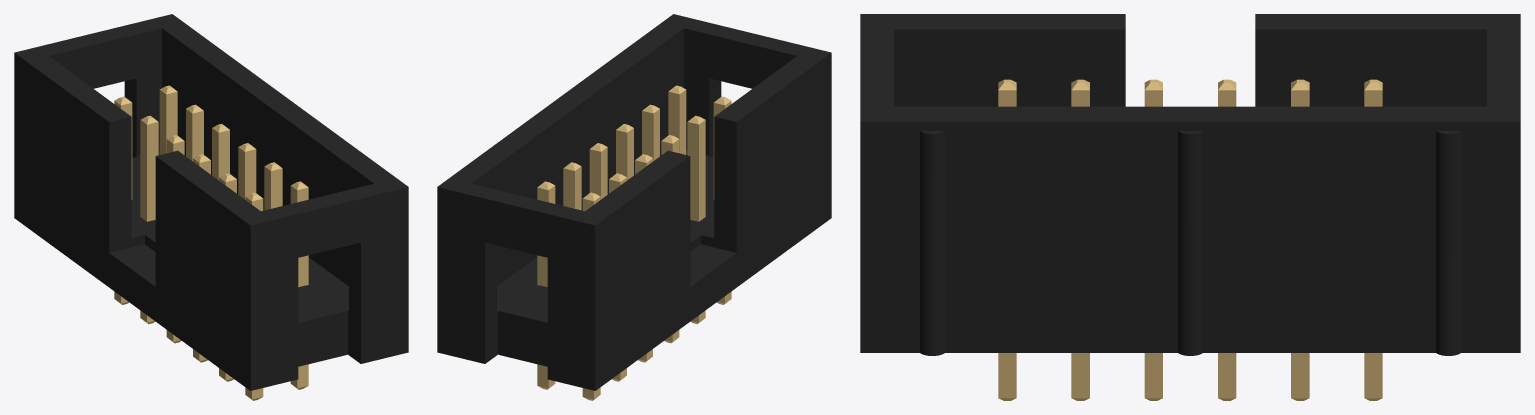
The model's file is kc-idc-header_2x06_p2.54mm_vertical.glb.
The picture shows the model from 3 angles, left to right: view 1: azimuth 30°, elevation 25°; view 2: azimuth 150°, elevation 25°; view 3: azimuth 270°, elevation 25°; orthographic projection. The views are drawn at different scales.
Parts seen in each view (by area): view 1: 0_0_0_0, 0.75_0.5_0.25_0.9; view 2: 0_0_0_0, 0.75_0.5_0.25_0.9; view 3: 0_0_0_0, 0.75_0.5_0.25_0.9.
Boxes of the visible parts, x1,y1,x2,y2 form: 0_0_0_0: [14, 14, 408, 390]; 0.75_0.5_0.25_0.9: [114, 85, 308, 400]; 0_0_0_0: [437, 14, 831, 390]; 0.75_0.5_0.25_0.9: [537, 85, 731, 400]; 0_0_0_0: [860, 14, 1520, 355]; 0.75_0.5_0.25_0.9: [998, 79, 1382, 400].
Size of the model in its own units: 0.91 by 1.21 by 2.29.
